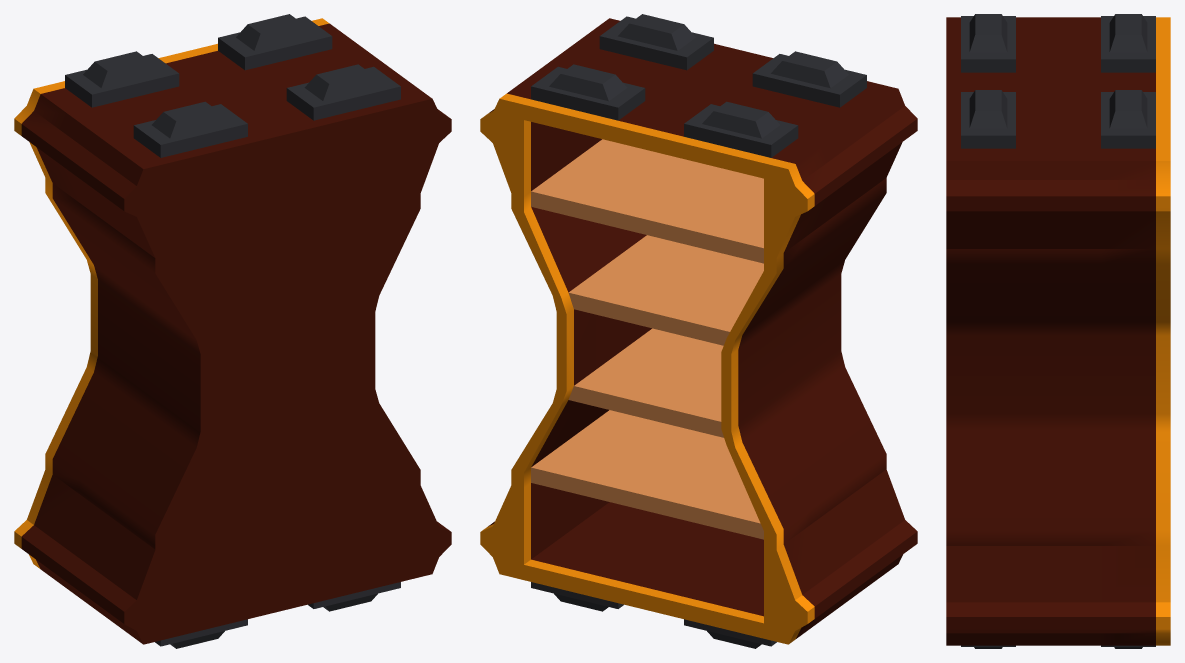
File: shelf.fbx
3 renders of one model, left to right at view 1: azimuth 30°, elevation 25°; view 2: azimuth 150°, elevation 25°; view 3: azimuth 270°, elevation 25°, orthographic.
Parts seen in each view (by area): view 1: shelf_shelf; view 2: shelf_shelf; view 3: shelf_shelf.
Part boxes in pixels (bbox=[...]): shelf_shelf: bbox=[14, 14, 451, 648]; shelf_shelf: bbox=[480, 14, 917, 648]; shelf_shelf: bbox=[946, 14, 1170, 648].
Size of the model in its own units: 2.63 by 4.05 by 1.53.
